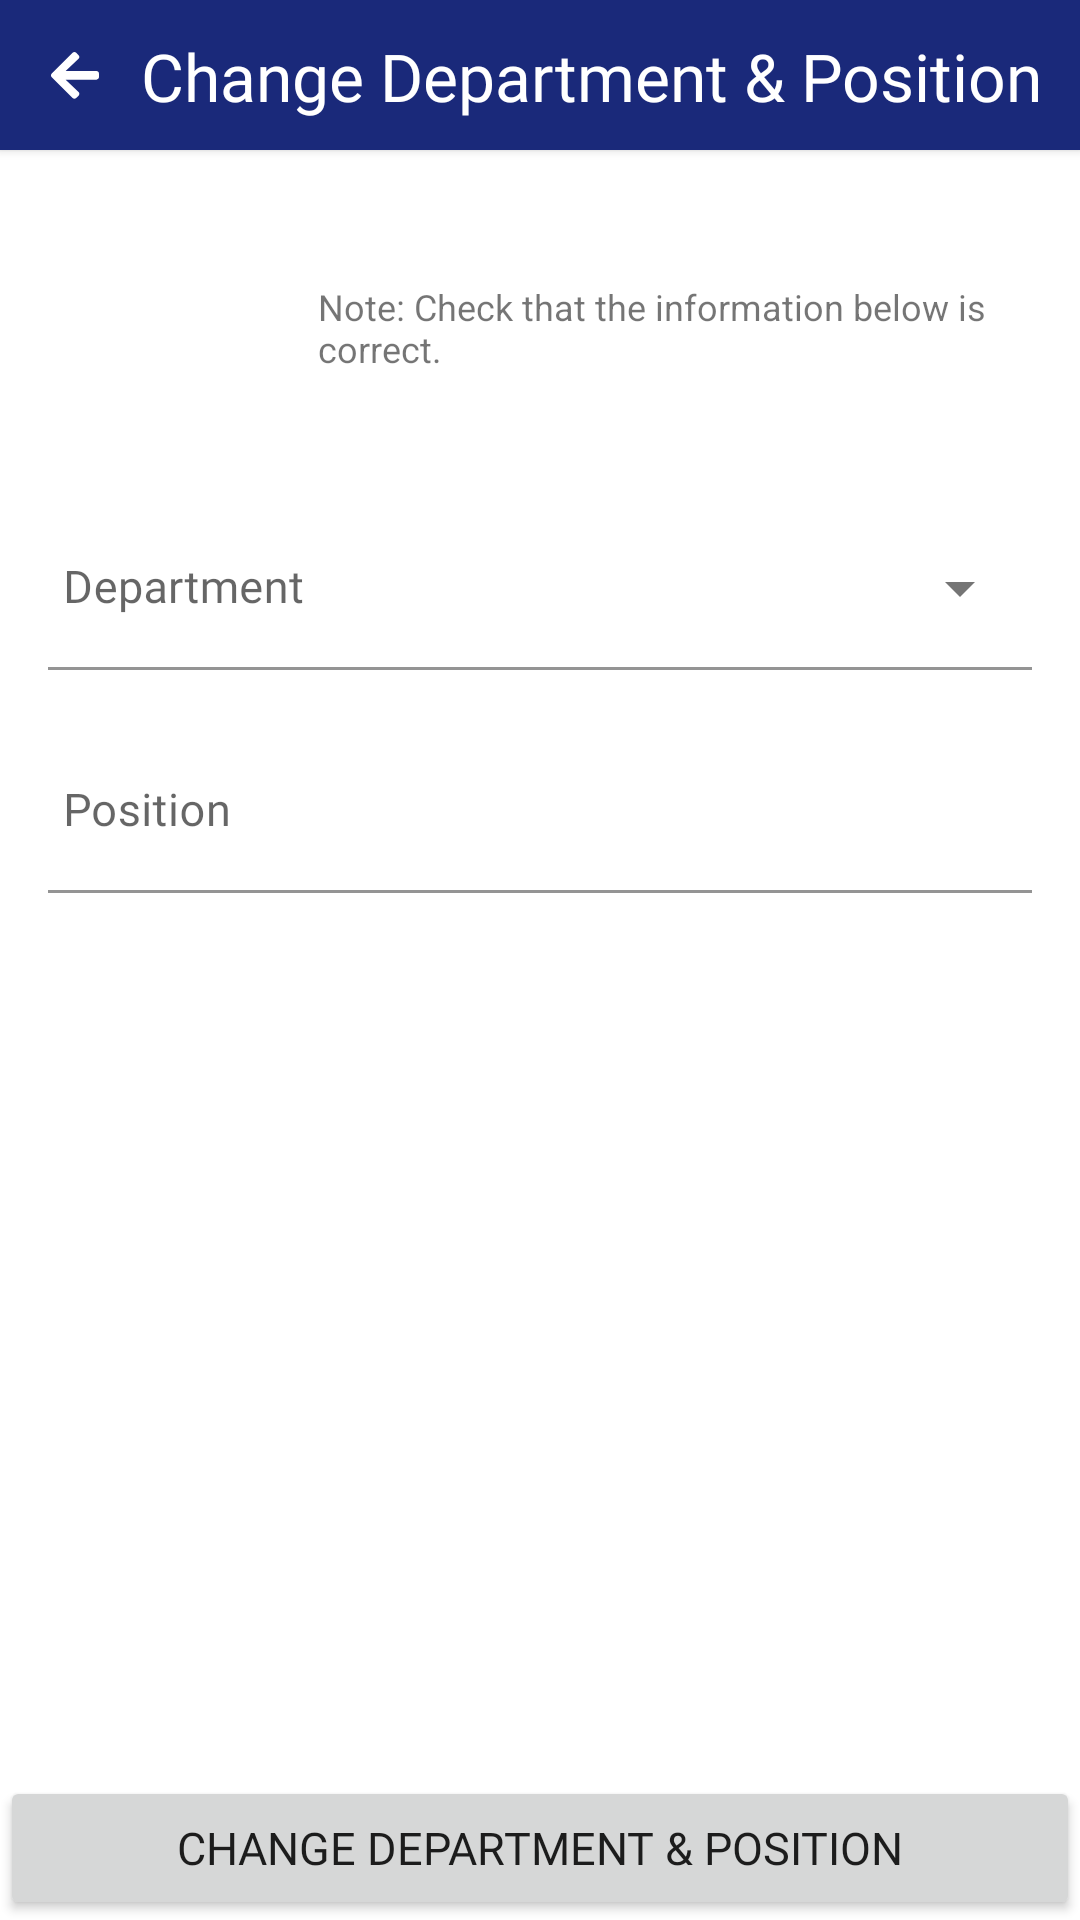

Icons on this 1080w x 1920h Android screen, each with its box as (x1, y1, x2, y2):
arrow left: (51, 52, 99, 99)
